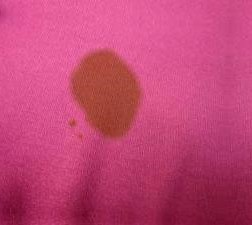stain: (72, 47, 148, 139), (75, 132, 87, 144), (66, 116, 78, 127)
